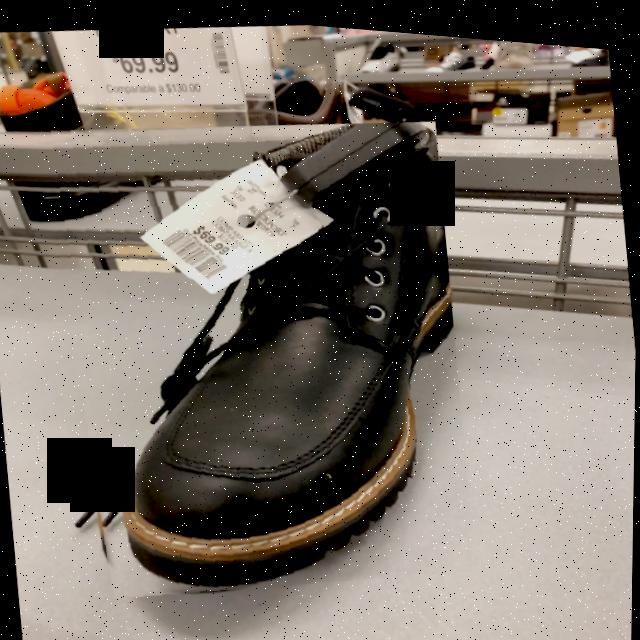shoe: (98, 114, 455, 588)
